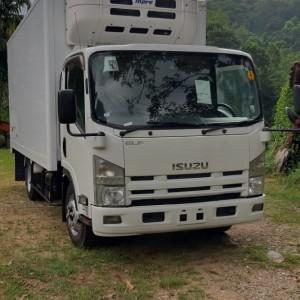truck: (4, 1, 266, 248)
